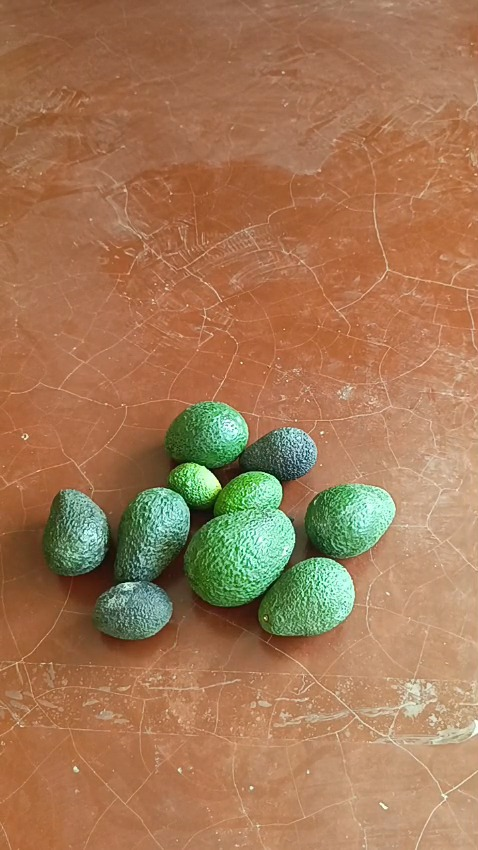Primera: (184, 507, 296, 605)
Segunda: (113, 486, 192, 583), (258, 557, 355, 635), (304, 482, 396, 557), (41, 488, 111, 576), (164, 401, 247, 467)
Tercera: (92, 579, 174, 640), (240, 426, 318, 482), (213, 471, 282, 517), (167, 461, 221, 510)
